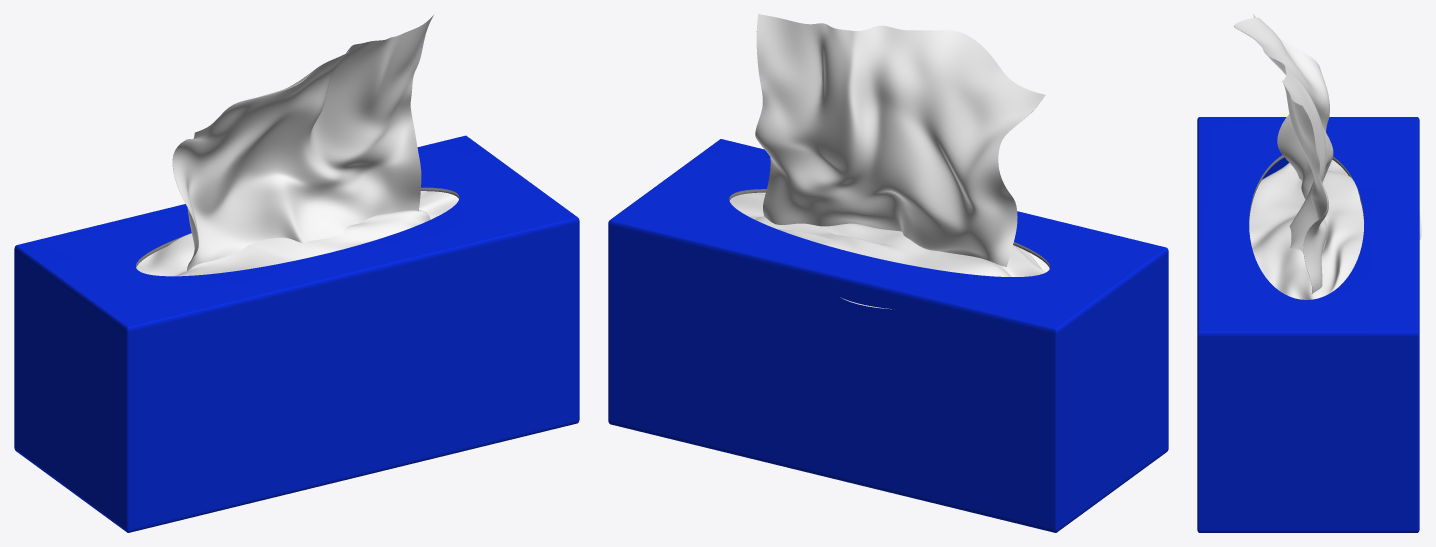
Rendered from Tissue.fbx.
3 views of the same model, side by side, from view 1: azimuth 30°, elevation 25°; view 2: azimuth 150°, elevation 25°; view 3: azimuth 270°, elevation 25° (orthographic). The views are drawn at different scales.
Parts seen in each view (by area): view 1: Cube, Plane, Plane.002; view 2: Cube, Plane, Plane.002; view 3: Cube, Plane.002, Plane.
Boxes of the visible parts, x1,y1,x2,y2 form: Cube: [14, 135, 579, 532]; Plane: [172, 15, 433, 271]; Plane.002: [136, 191, 458, 276]; Cube: [608, 139, 1168, 532]; Plane: [755, 14, 1045, 266]; Plane.002: [729, 192, 1049, 309]; Cube: [1197, 117, 1419, 532]; Plane.002: [1249, 159, 1421, 299]; Plane: [1234, 14, 1333, 293].
Bounding box in the file's own units: 23 × 19.08 × 10.09.
